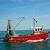fishing boat: (4, 16, 50, 43)
